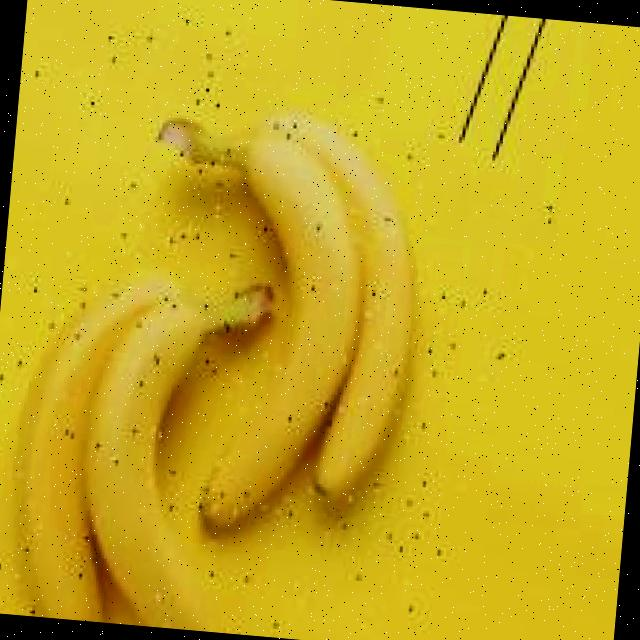banana: (139, 47, 462, 562), (0, 225, 285, 635)
